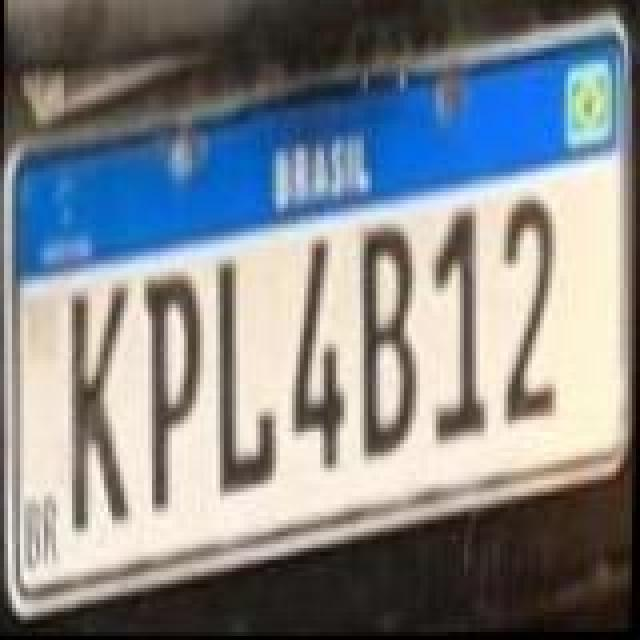1: (430, 202, 494, 446)
2: (496, 194, 564, 426)
4: (292, 240, 352, 472)
B: (356, 228, 424, 464)
K: (64, 278, 136, 534)
L: (208, 262, 280, 498)
P: (138, 272, 206, 512)
